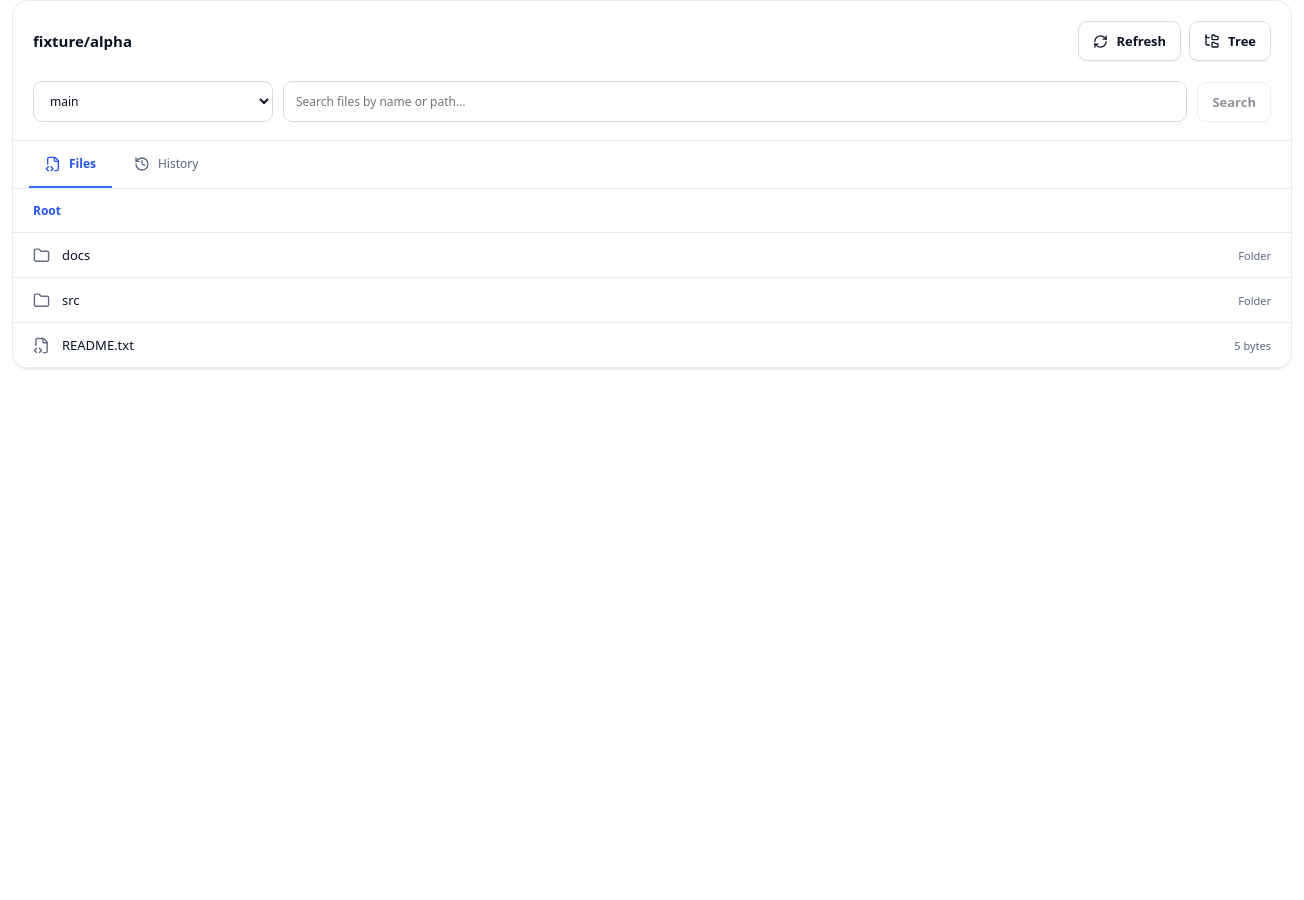
Test case: aborts a folder read when it is collapsed and preserves disclosure state during file navigation
Expected: the button "README.txt 5 bytes" is shown, [13,323,1291,368]
Click the button "Tree".
click(1230, 41)  # box [1189,21,1271,61]
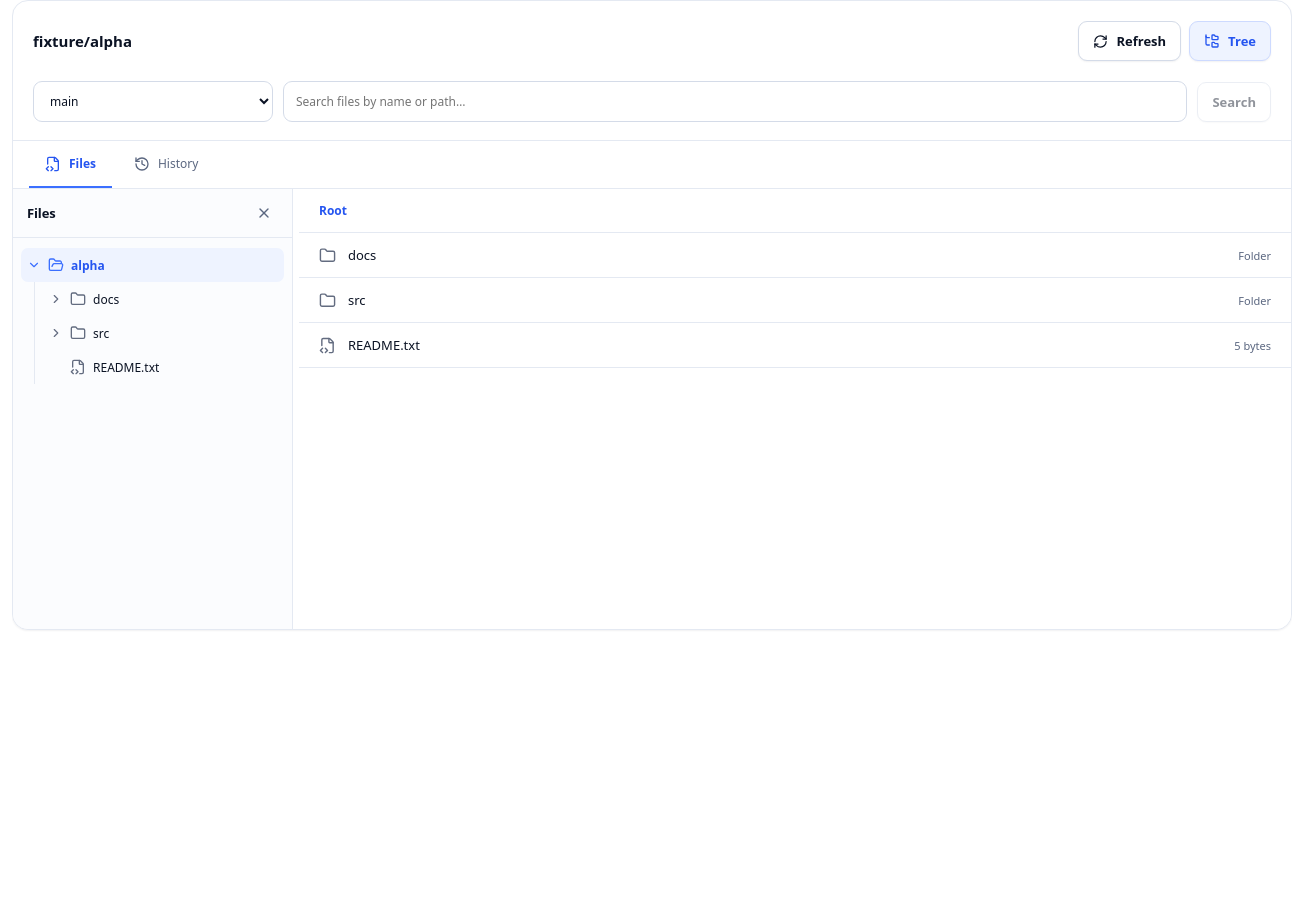
Click the button "docs".
click(164, 299)  # box [43,282,284,316]
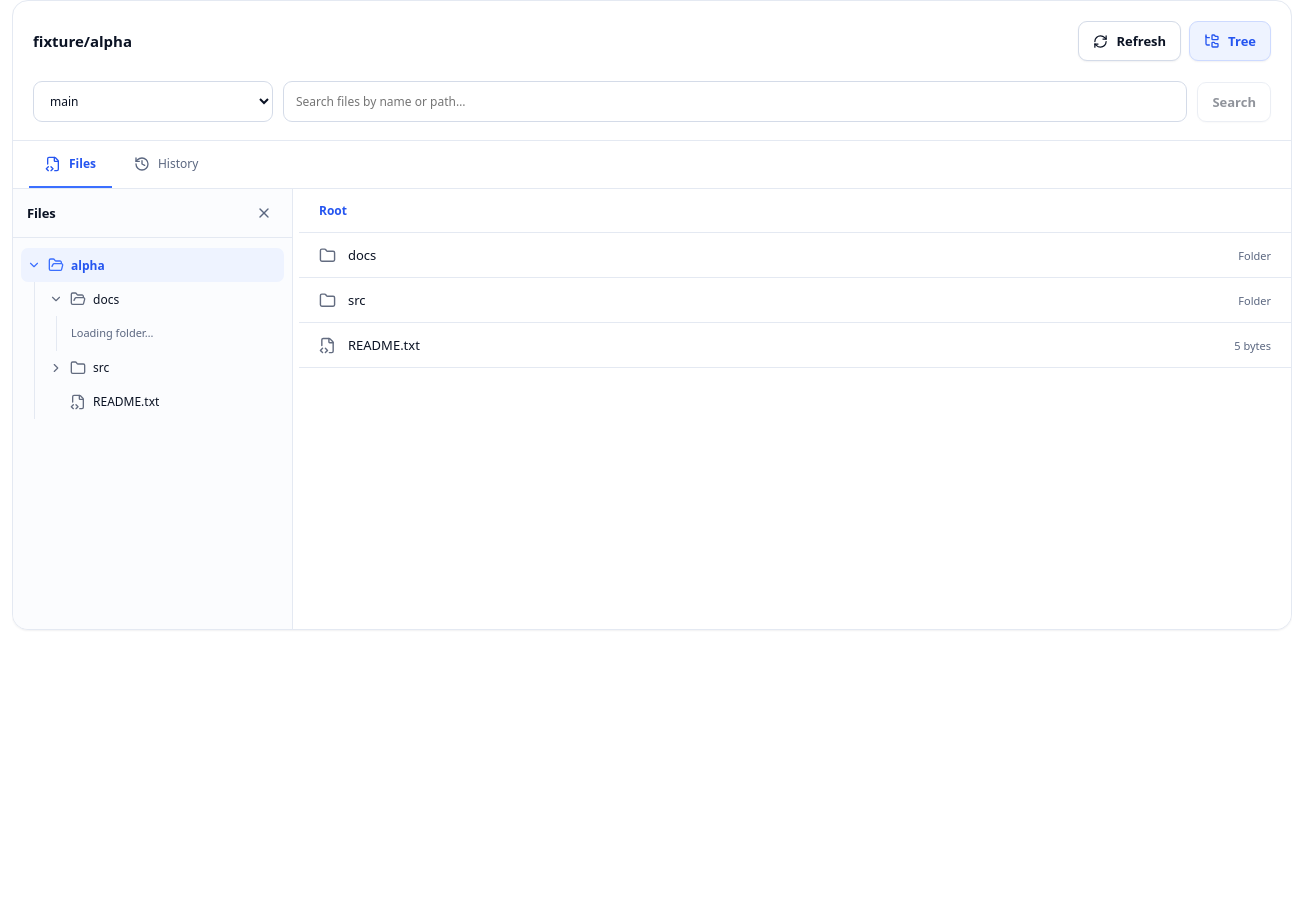
Expected: the message "Loading folder…" is shown, [71,325,153,340]
Click the button "docs".
click(164, 299)  # box [43,282,284,316]
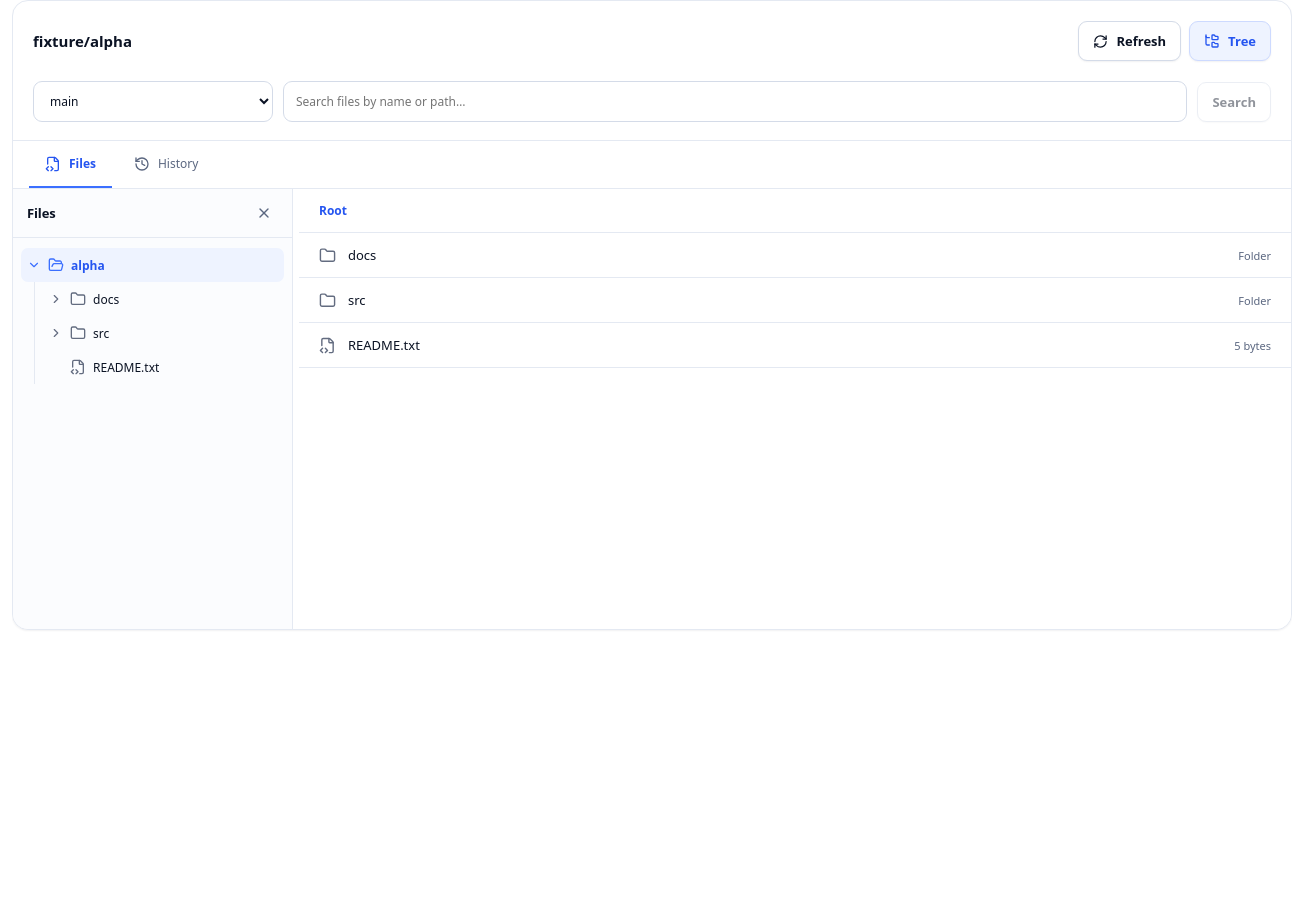
Click the button "README.txt".
click(164, 367)  # box [43,350,284,384]
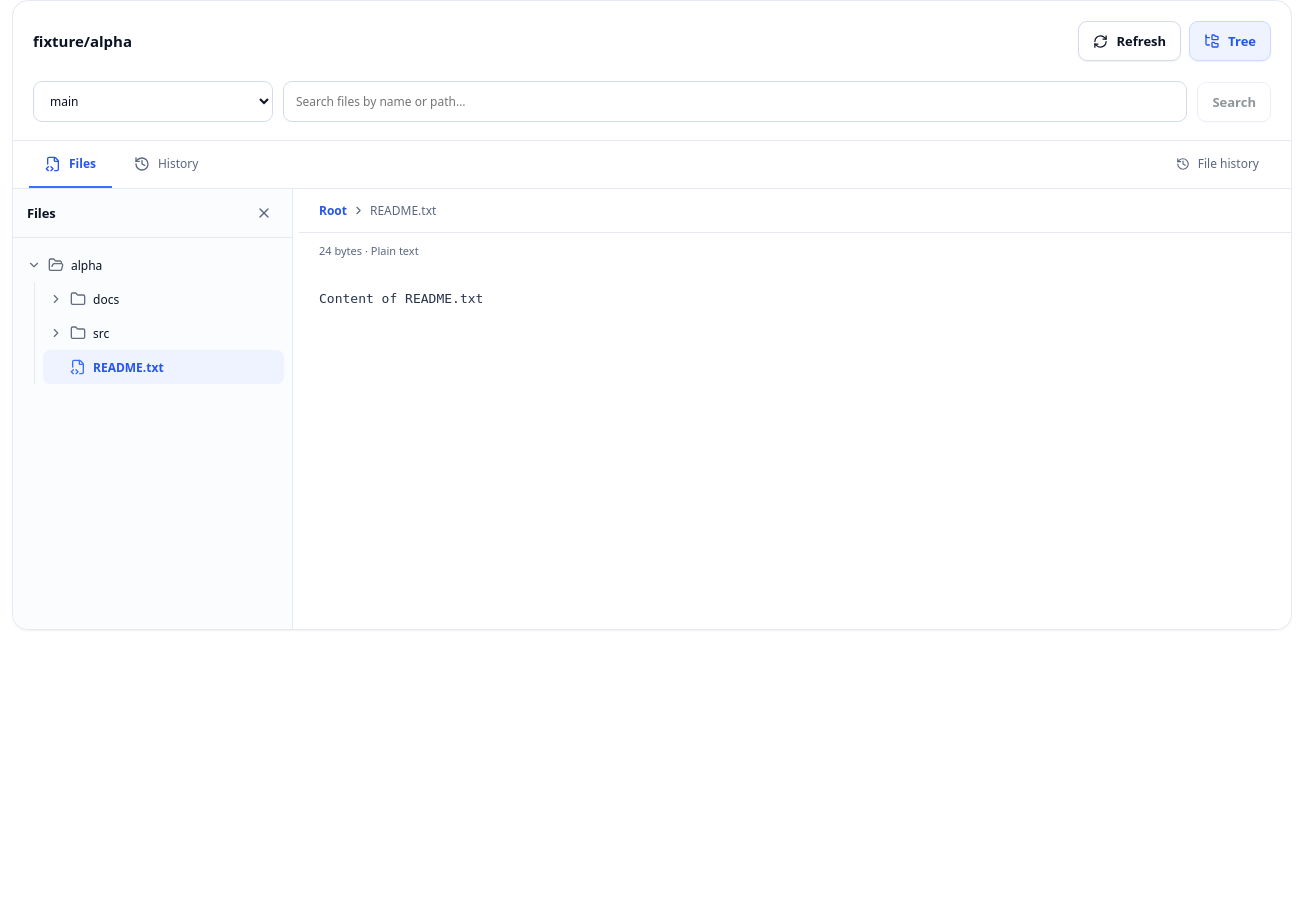
Expected: the message "Loading folder…" is not shown
Expected: the button "docs" is collapsed, [43,282,284,316]
Expected: the text "Content of README.txt" is shown, [319,291,483,306]
